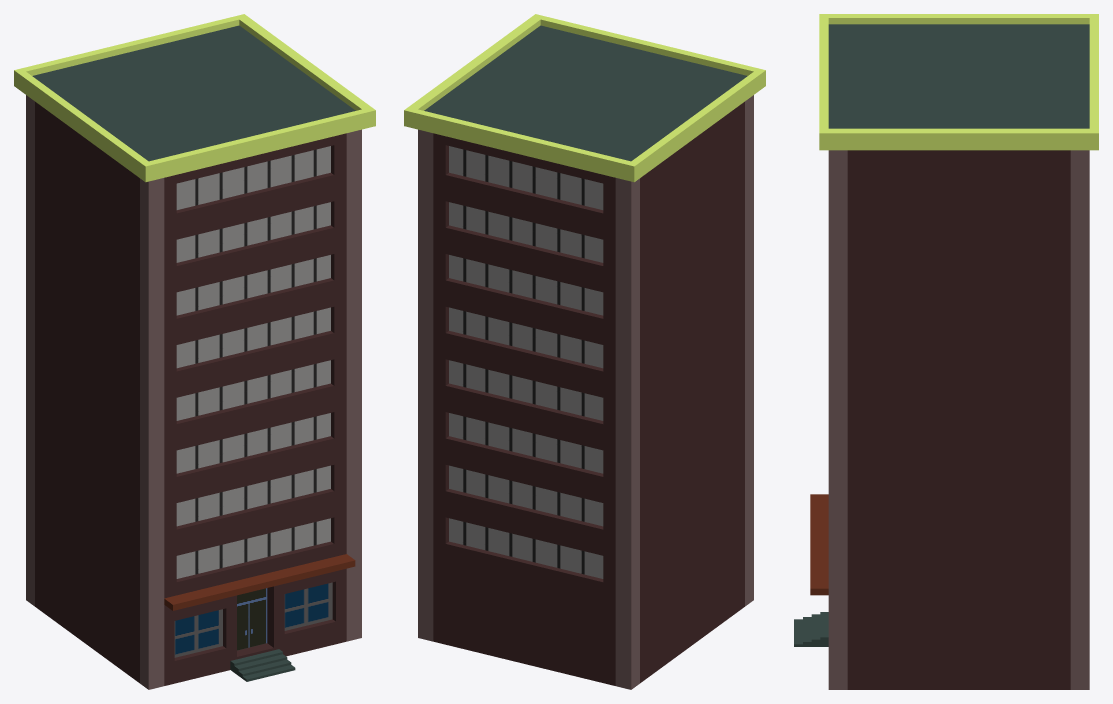
The model's file is building25b.FBX.
3 renders of one model, left to right at view 1: azimuth 30°, elevation 25°; view 2: azimuth 150°, elevation 25°; view 3: azimuth 270°, elevation 25°, orthographic. The views are drawn at different scales.
Visible parts, largest first — view 1: building25b; view 2: building25b; view 3: building25b.
Boxes of the visible parts, x1,y1,x2,y2 form: building25b: (14, 14, 375, 689); building25b: (404, 14, 765, 689); building25b: (794, 14, 1098, 689).
Bounding box in the file's own units: 21.67 × 47.5 × 23.38.
